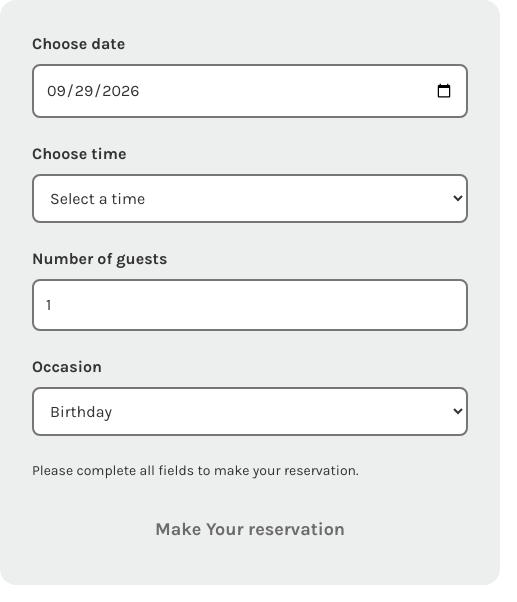
Scenario: BookingForm: React validation › submit button is enabled when all fields are valid
This screenshot has width=517, height=602.
Select "17:00" in the dropdown labelled "Choose time" at (250, 198), box left=32, top=174, right=468, bottom=223
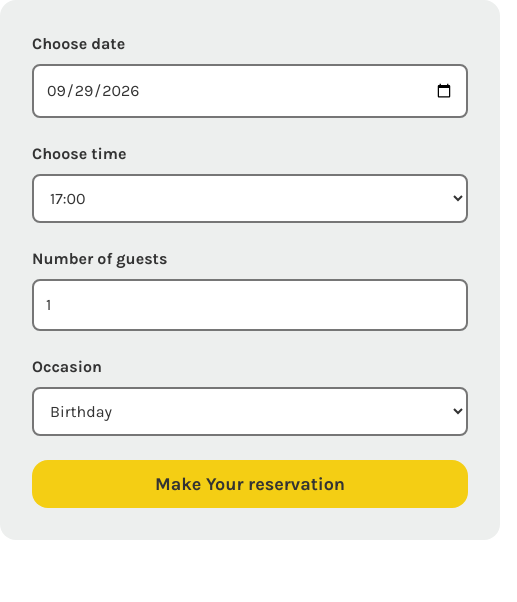
Check: the button "Make Your reservation" is enabled, box left=32, top=460, right=468, bottom=508
